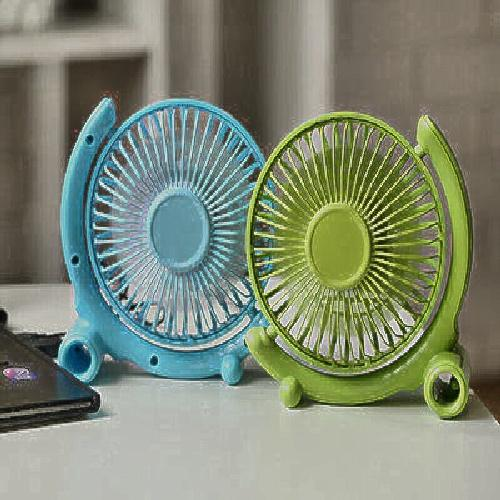fan: (250, 118, 468, 421), (78, 94, 269, 384)
